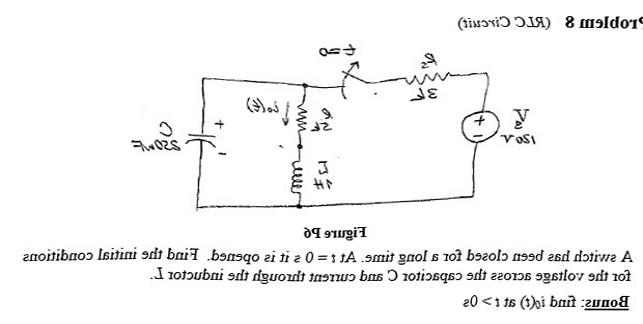Battery: (449, 98, 501, 153)
